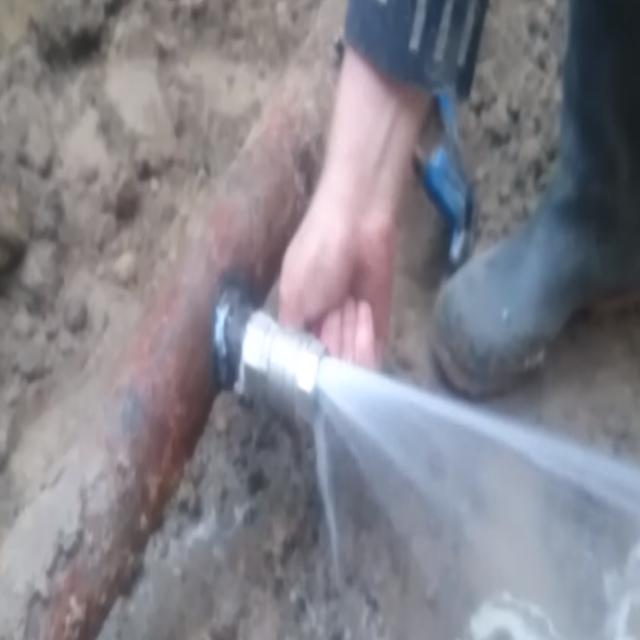leak: (314, 355, 640, 638)
